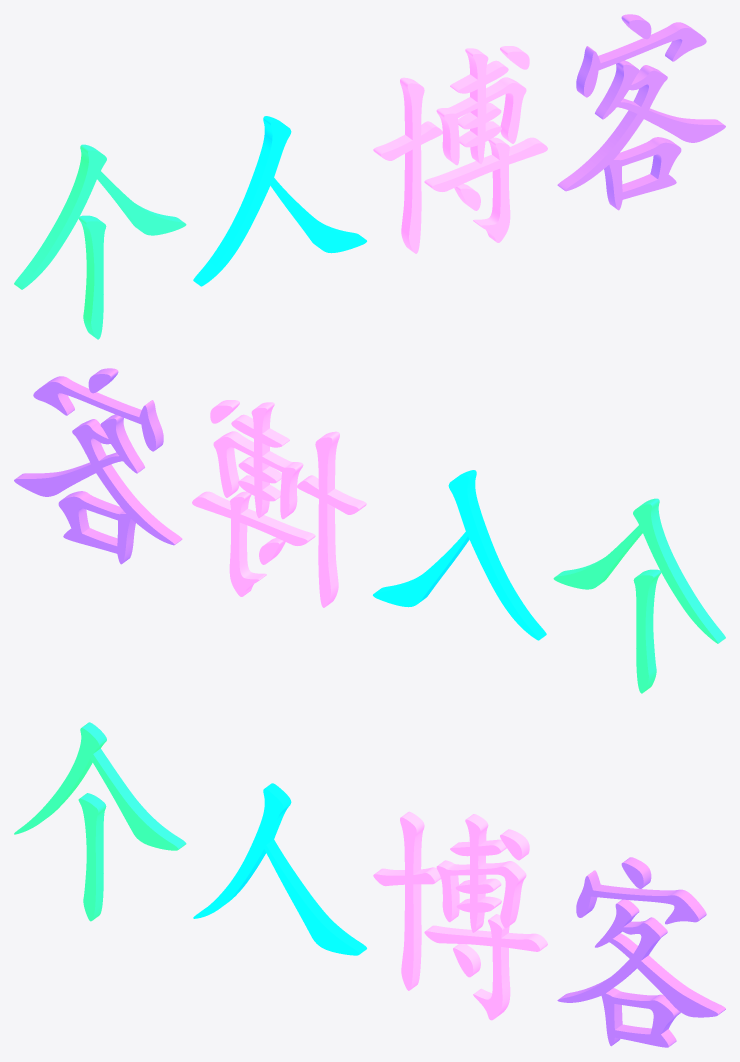
Rendered from font.glb.
3 views of the same model, one above another, from view 1: azimuth 30°, elevation 25°; view 2: azimuth 150°, elevation 25°; view 3: azimuth 330°, elevation 25° (orthographic).
Parts seen in each view (by area): view 1: 文本; view 2: 文本; view 3: 文本.
Part boxes in pixels (x1,y1,x2,y2): 文本: [14, 14, 725, 339]; 文本: [14, 368, 725, 693]; 文本: [14, 722, 725, 1047].
Bounding box in the file's own units: 3.33 × 0.8816 × 0.0635.
